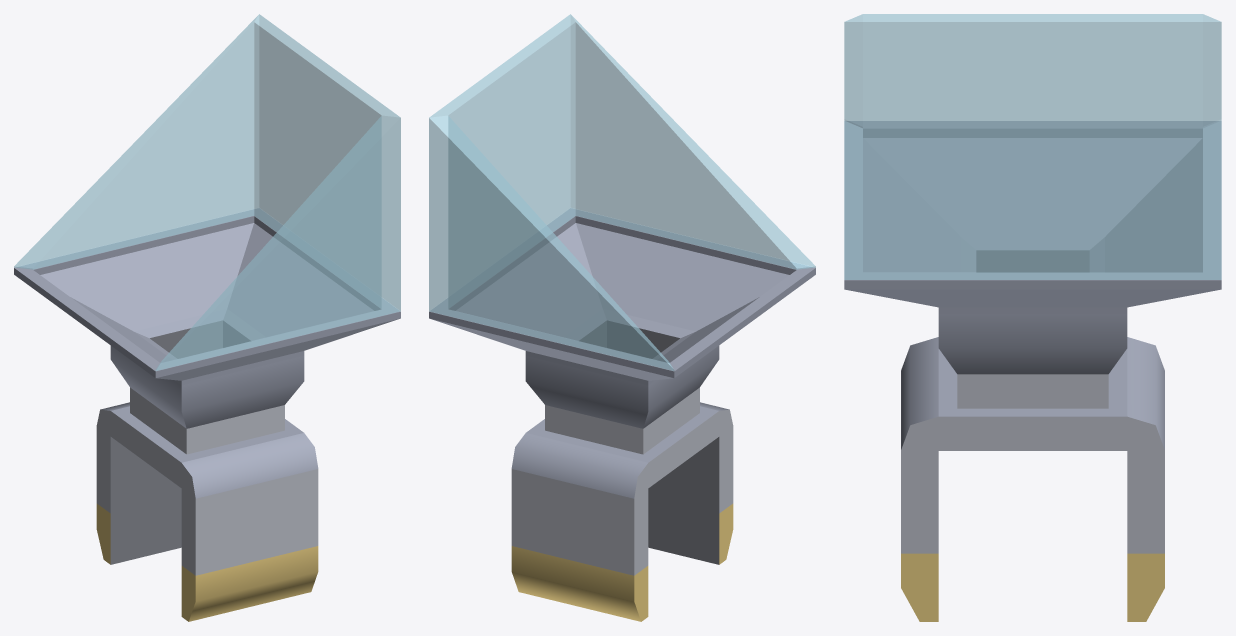
The model's file is cover-stripe-hooper-3.fbx.
3 renders of one model, left to right at view 1: azimuth 30°, elevation 25°; view 2: azimuth 150°, elevation 25°; view 3: azimuth 270°, elevation 25°, orthographic. The views are drawn at different scales.
Visible parts, largest first — view 1: cover-stripe-hopper, cover-stripe-hopper.001; view 2: cover-stripe-hopper, cover-stripe-hopper.001; view 3: cover-stripe-hopper, cover-stripe-hopper.001.
Boxes of the visible parts, x1=… form: cover-stripe-hopper: x1=14, y1=208, x2=400, y2=621; cover-stripe-hopper.001: x1=14, y1=14, x2=400, y2=370; cover-stripe-hopper: x1=429, y1=208, x2=815, y2=621; cover-stripe-hopper.001: x1=429, y1=14, x2=815, y2=370; cover-stripe-hopper: x1=844, y1=121, x2=1221, y2=621; cover-stripe-hopper.001: x1=844, y1=14, x2=1221, y2=279.
Bounding box in the file's own units: 200 × 374 × 200.
